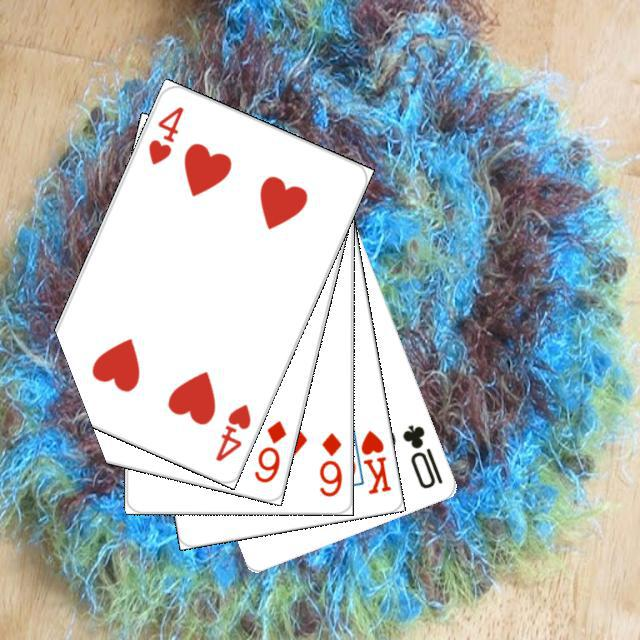10c: (397, 419, 444, 491)
4h: (143, 101, 185, 167), (210, 399, 253, 463)
6d: (249, 415, 288, 485), (314, 427, 344, 498)
Kh: (346, 422, 393, 496)
